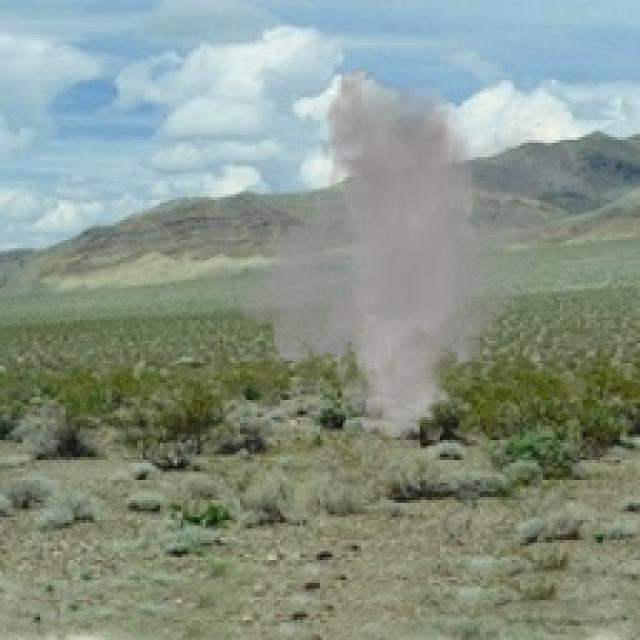Smoke: (226, 66, 594, 440)
